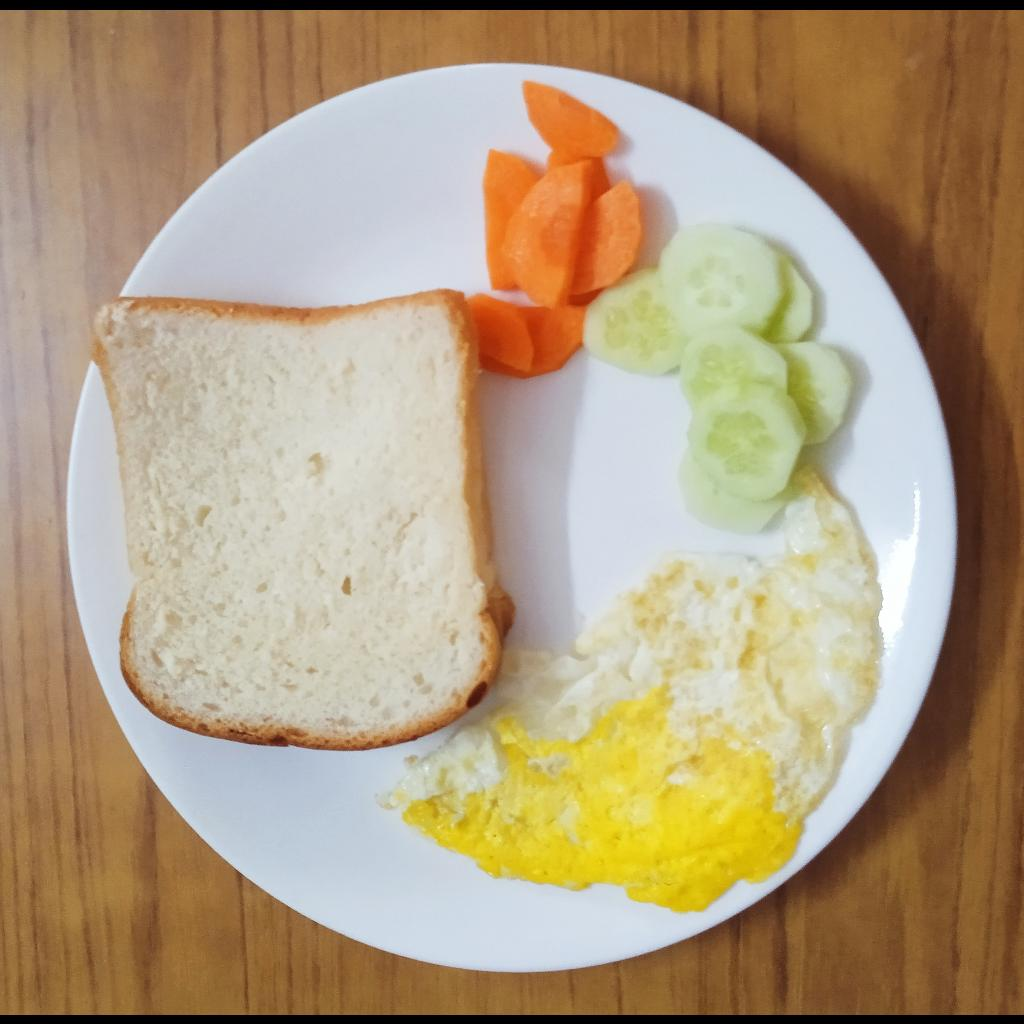bread: (86, 288, 519, 749)
carrot: (475, 71, 645, 379)
cucumber: (581, 225, 856, 529)
egg-poached: (384, 461, 889, 916)
